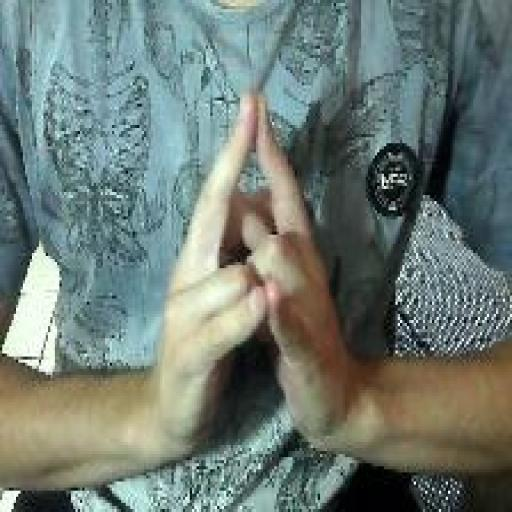Tori -bird-: (151, 86, 350, 466)
